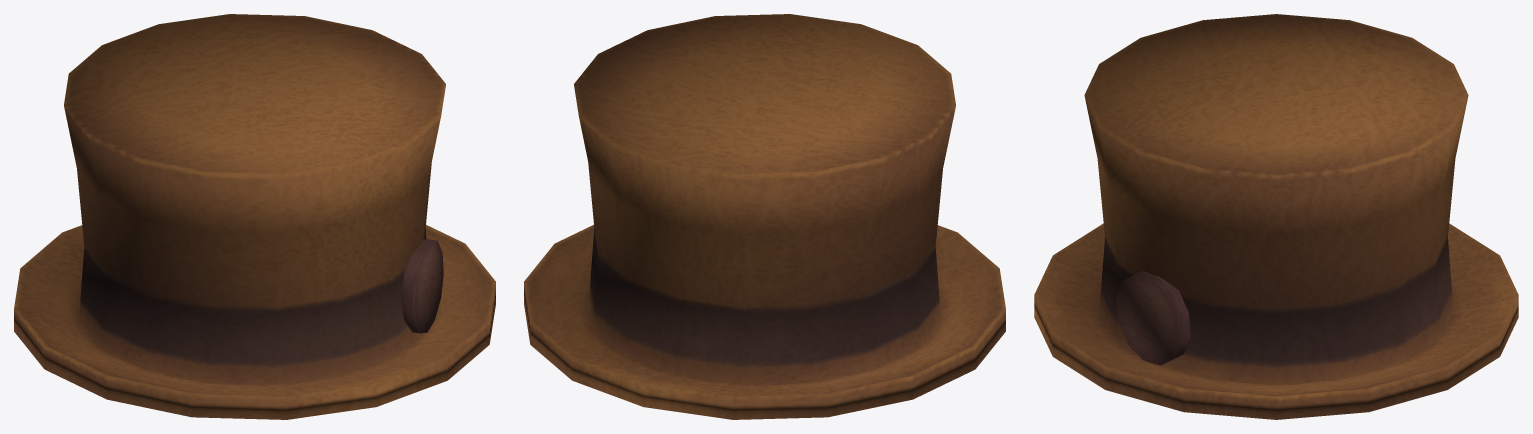
The model's file is SM_MinihatA.FBX.
3 views of the same model, side by side, from view 1: azimuth 30°, elevation 25°; view 2: azimuth 150°, elevation 25°; view 3: azimuth 270°, elevation 25° (orthographic).
Parts seen in each view (by area): view 1: SM_MinihatA; view 2: SM_MinihatA; view 3: SM_MinihatA.
Part boxes in pixels (<box>): SM_MinihatA: <box>14,14,495,419</box>; SM_MinihatA: <box>524,14,1005,419</box>; SM_MinihatA: <box>1034,14,1518,419</box>.
Bounding box in the file's own units: 45.34 × 45.34 × 24.26.
